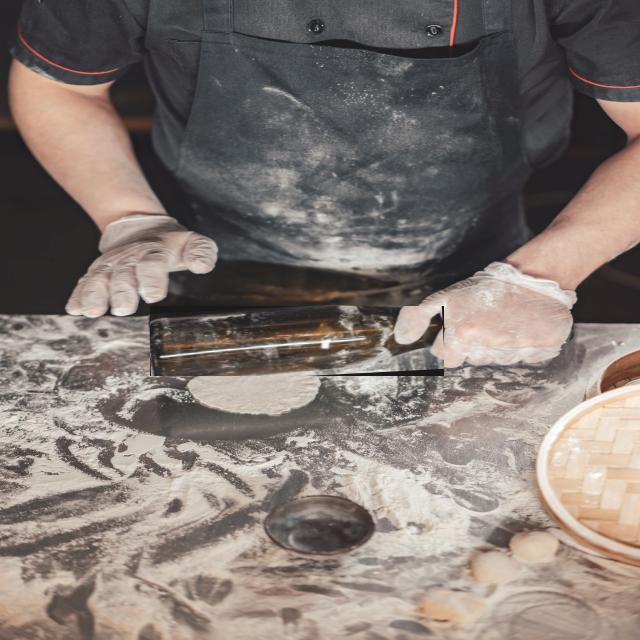Bottle: (149, 307, 442, 375)
